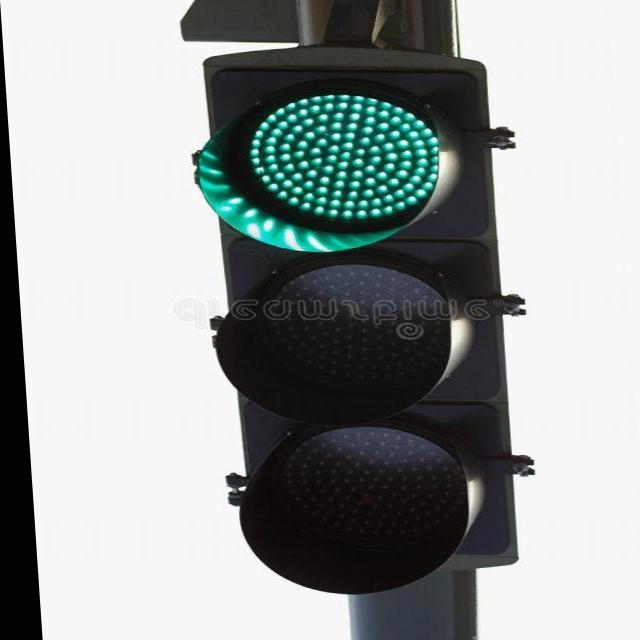green light: (193, 72, 514, 588)
